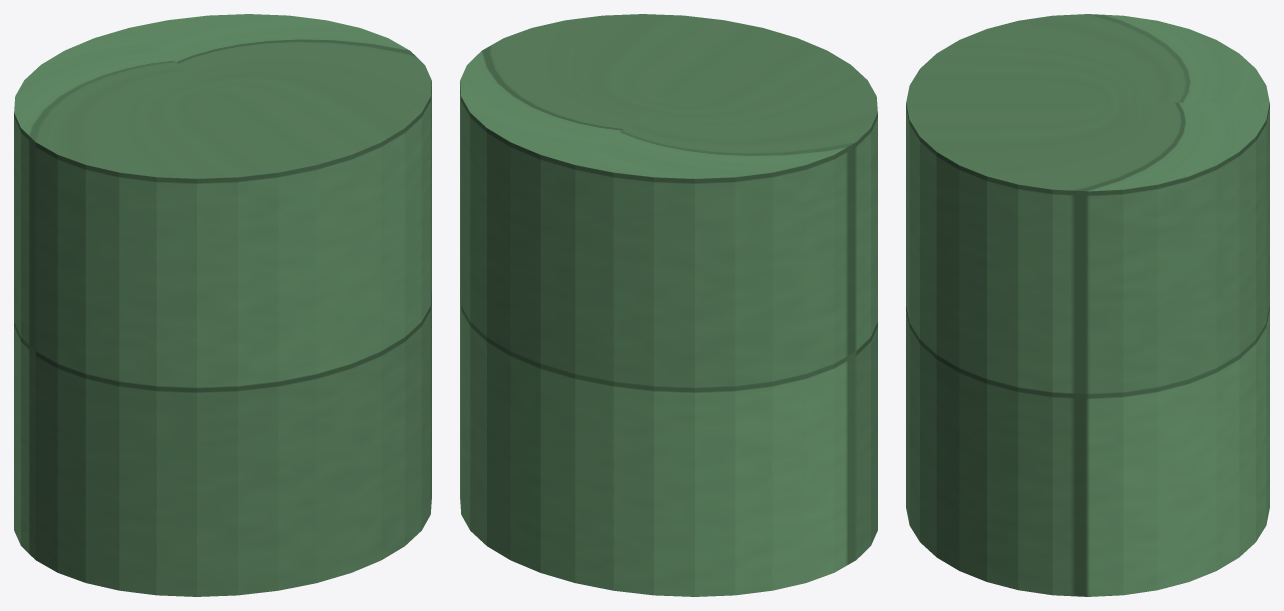
3 renders of one model, left to right at view 1: azimuth 30°, elevation 25°; view 2: azimuth 150°, elevation 25°; view 3: azimuth 270°, elevation 25°, orthographic. The views are drawn at different scales.
Parts seen in each view (by area): view 1: geometry_0; view 2: geometry_0; view 3: geometry_0.
Part boxes in pixels (x1,y1,x2,y2): geometry_0: (14,14,431,596); geometry_0: (460,14,877,596); geometry_0: (906,14,1269,596).
Bounding box in the file's own units: 3.15 × 3.36 × 2.73.
Materials: 1 (1 with a texture image).
